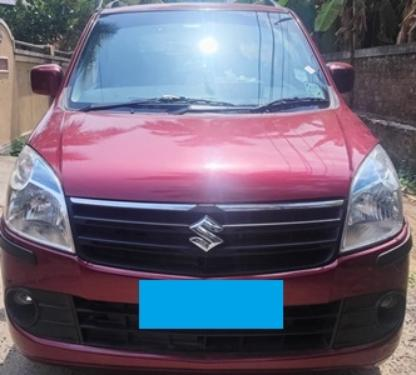car: (2, 4, 415, 375)
